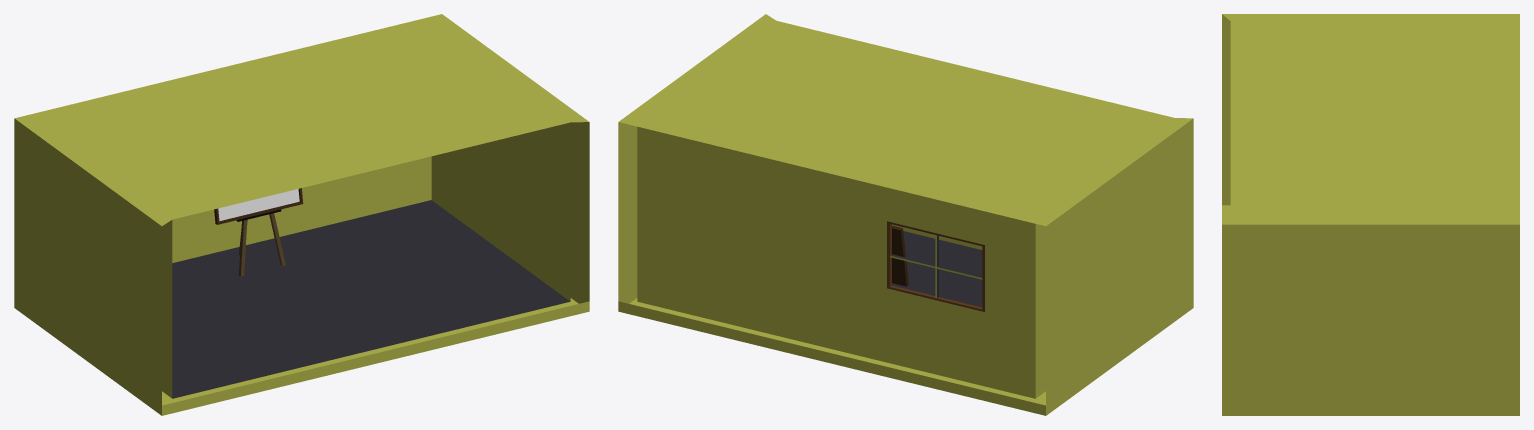
File: menu.fbx
The picture shows the model from 3 angles, left to right: view 1: azimuth 30°, elevation 25°; view 2: azimuth 150°, elevation 25°; view 3: azimuth 270°, elevation 25°; orthographic projection.
Visible parts, largest first — view 1: Casa, Painel1, Tripé; view 2: Casa, Painel1; view 3: Casa.
Part boxes in pixels (x1,y1,x2,y2): Casa: [14, 14, 589, 415]; Painel1: [214, 188, 303, 224]; Tripé: [239, 213, 285, 276]; Casa: [618, 14, 1193, 415]; Painel1: [892, 225, 908, 286]; Casa: [1222, 14, 1519, 415].
Bounding box in the file's own units: 1451 × 615 × 867.
